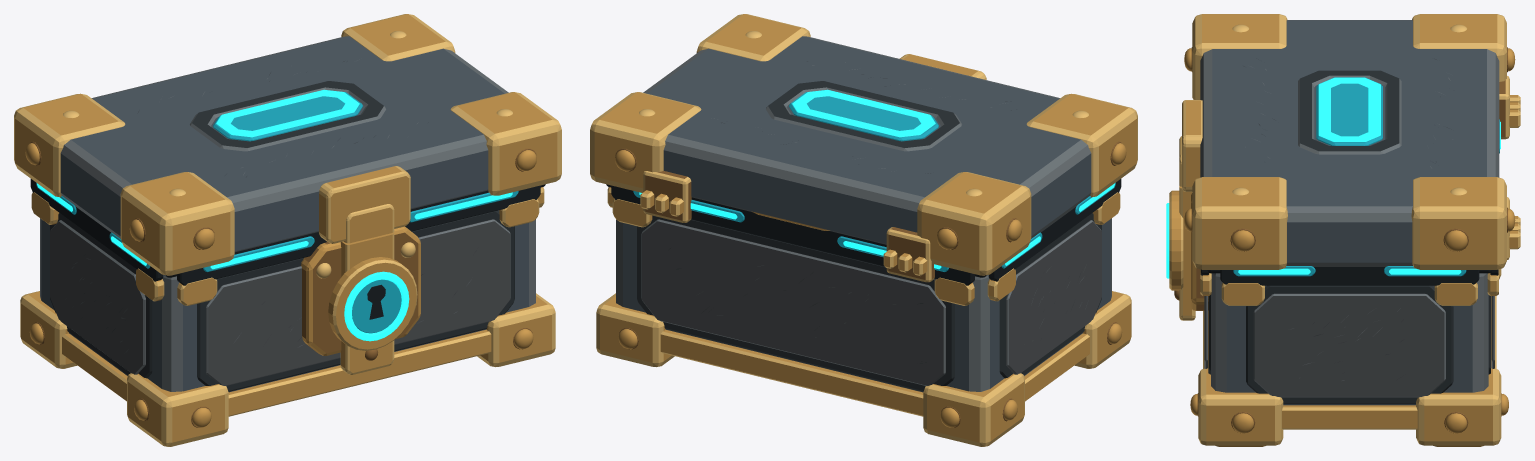
Rendered from wsc-prop-049-cache-chest-opening.glb.
The picture shows the model from 3 angles, left to right: view 1: azimuth 30°, elevation 25°; view 2: azimuth 150°, elevation 25°; view 3: azimuth 270°, elevation 25°; orthographic projection. The views are drawn at different scales.
Parts seen in each view (by area): view 1: Cache_Lid, Cache_Body, Cache_Tray, Cache_Latch_Lower, Cache_Latch_Upper; view 2: Cache_Lid, Cache_Body, Cache_Tray, Cache_HingeBarrels; view 3: Cache_Lid, Cache_Body, Cache_Tray, Cache_Latch_Lower, Cache_HingeBarrels.
Boxes of the visible parts, x1,y1,x2,y2 form: Cache_Lid: (14, 14, 561, 275); Cache_Body: (20, 179, 555, 446); Cache_Tray: (40, 210, 535, 392); Cache_Latch_Lower: (340, 232, 394, 374); Cache_Latch_Upper: (344, 204, 394, 243); Cache_Lid: (590, 14, 1137, 275); Cache_Body: (596, 171, 1131, 446); Cache_Tray: (616, 218, 1111, 392); Cache_HingeBarrels: (640, 190, 927, 276); Cache_Lid: (1182, 14, 1515, 276); Cache_Body: (1166, 76, 1509, 446); Cache_Tray: (1211, 273, 1488, 405); Cache_Latch_Lower: (1179, 186, 1195, 320); Cache_HingeBarrels: (1509, 95, 1520, 249).
Bounding box in the file's own units: 1.61 × 0.892 × 1.16.
